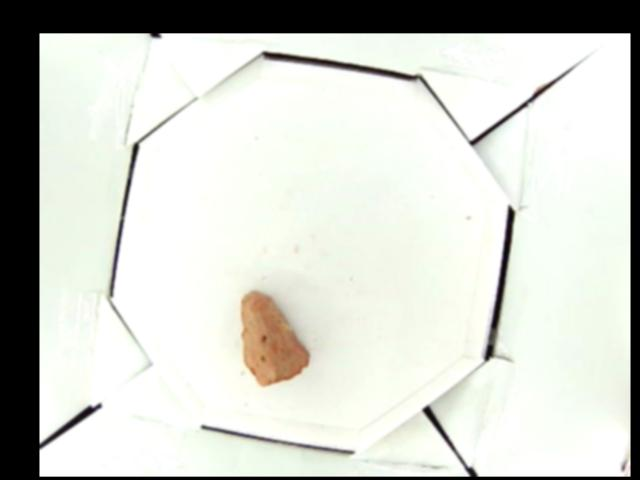Brisk: (242, 293, 310, 387)
